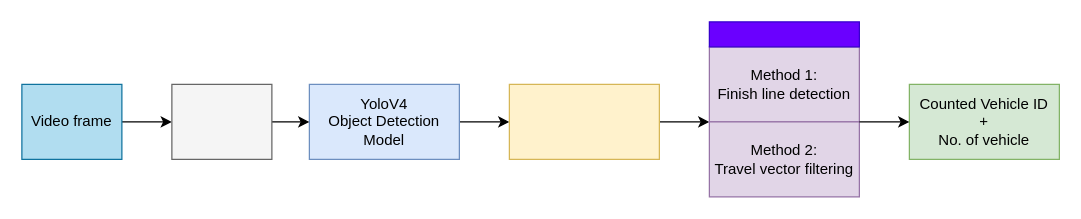
The diagram is 1081 pixels wide and 219 high, and some of its shapes have lost their labels. Here are the shapes that lost their labels. From the top down, the box of each, then its label:
(708, 21, 859, 47): Vehicle counting
(171, 83, 272, 159): Masking
(508, 83, 659, 159): DeepSORT Object Tracking
